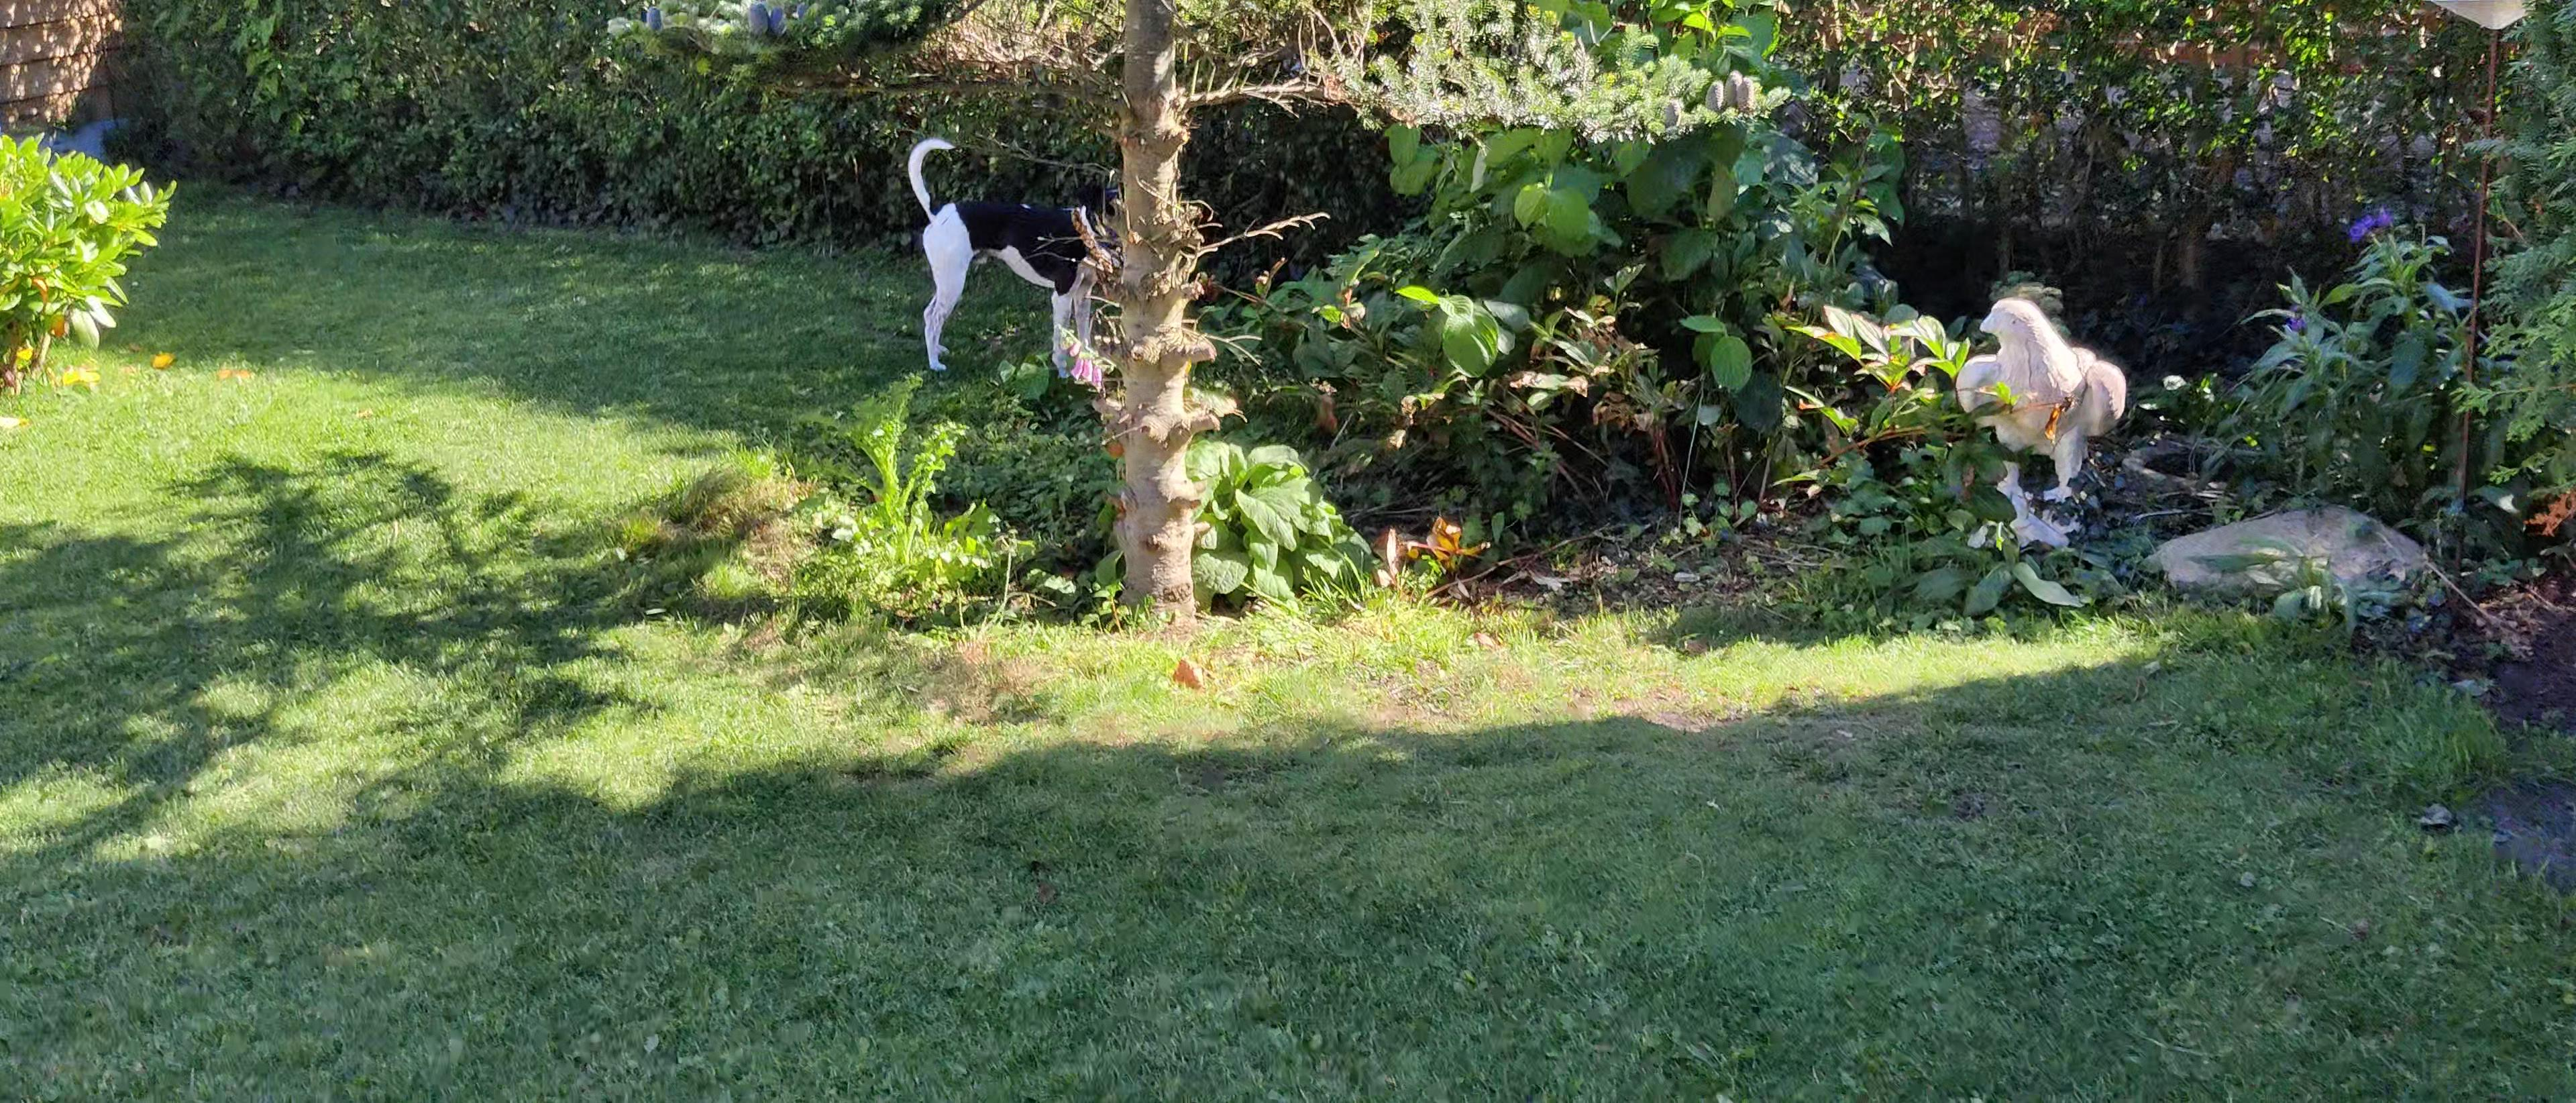Dog: (900, 135, 1142, 383)
